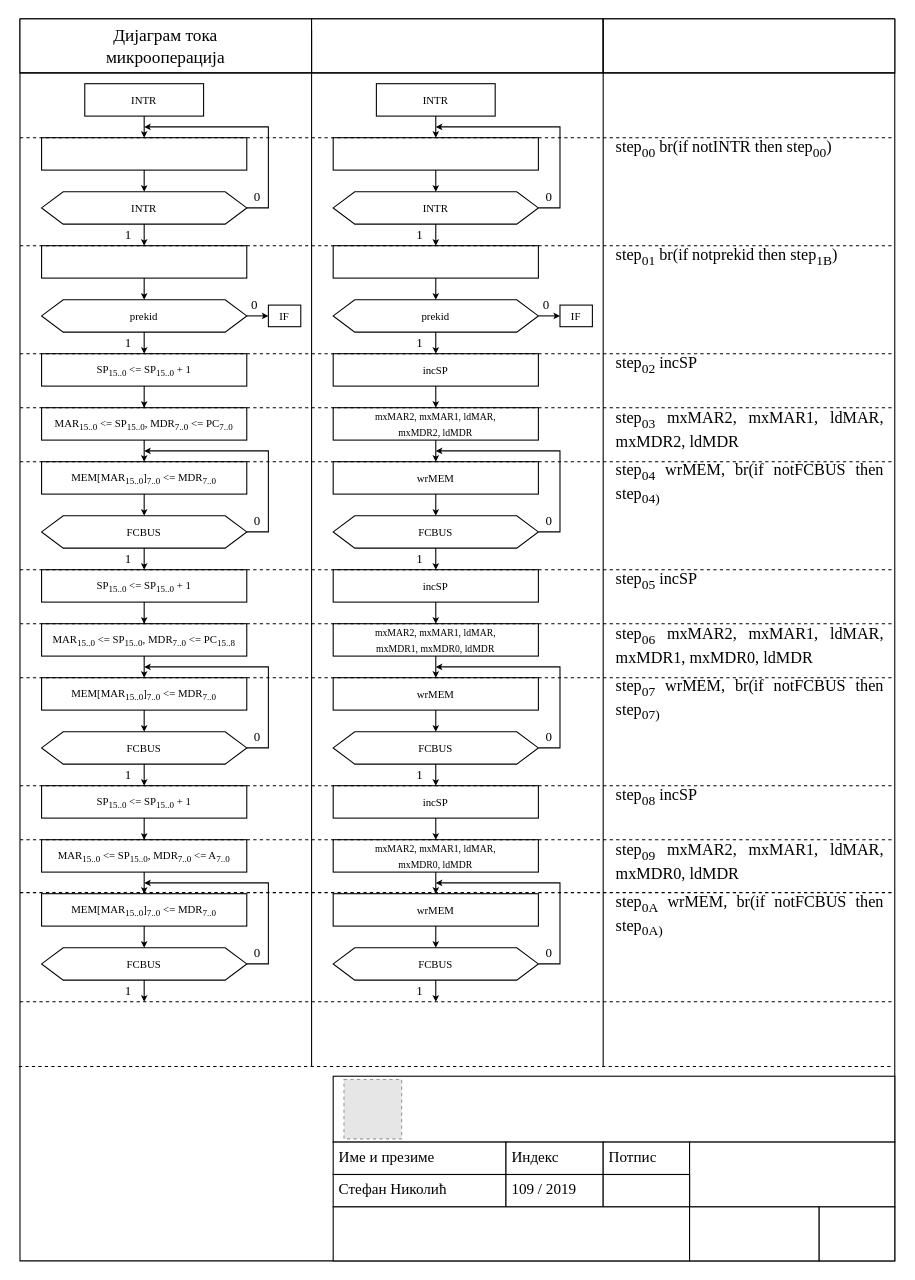
This 915x1280 diagram has some shape labels left out. Grey dashed boxes stand in for pictures. The box of each missing label's shape, as (x1, y1, x2, y2) in pixels:
Датум 25.09.2021.: (688, 1206, 819, 1261)
Дијаграм тока управљачких сигнала: (310, 18, 603, 73)
Назив Основи рачунарске технике 2: (332, 1206, 690, 1261)
Пројекат Задатак 209: (688, 1141, 895, 1207)
Секвенца управљачких сигнала: (602, 18, 895, 73)
Страна 16: (818, 1206, 895, 1261)
Универзитет у Београду Електротехнички факултет: (332, 1075, 895, 1142)
